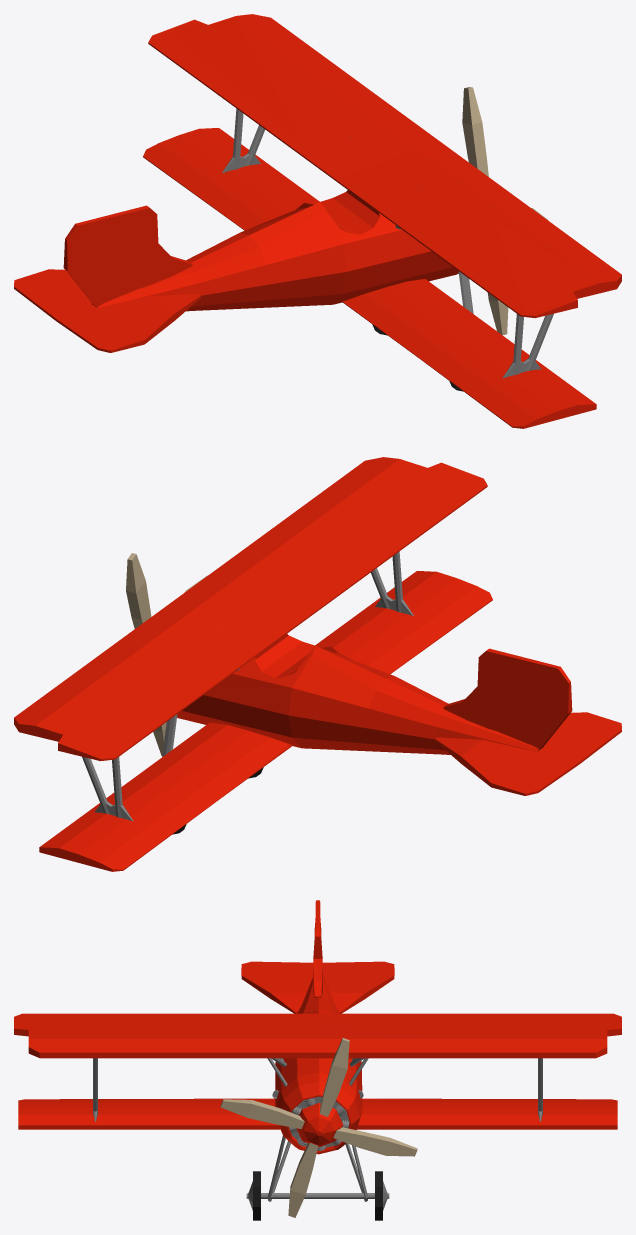
3 views of the same model, one above another, from view 1: azimuth 30°, elevation 25°; view 2: azimuth 150°, elevation 25°; view 3: azimuth 270°, elevation 25° (orthographic). The views are drawn at different scales.
Visible parts, largest first — view 1: plane_2, fuselage_1, Cylinder_0; view 2: plane_2, fuselage_1, Cylinder_0; view 3: plane_2, Cylinder_0, fuselage_1.
Part boxes in pixels (x1,y1,x2,y2): plane_2: (14,14,621,428); fuselage_1: (91,190,458,311); Cylinder_0: (462,87,548,335); plane_2: (14,457,621,871); fuselage_1: (177,634,543,754); Cylinder_0: (126,553,207,755); plane_2: (14,900,621,1220); Cylinder_0: (220,1038,417,1217); fuselage_1: (275,975,362,1154).
Bounding box in the file's own units: 5.66 × 3.07 × 8.44.
